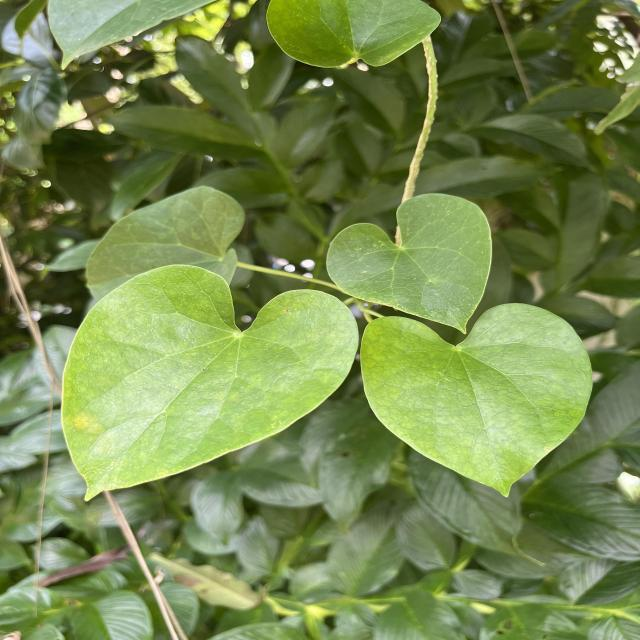Tinospora cordifolia: (59, 262, 362, 505), (358, 299, 596, 501), (324, 190, 496, 339)
